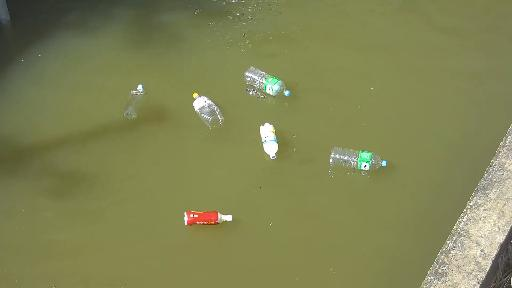plastic: (237, 61, 297, 106), (325, 146, 397, 180), (181, 85, 233, 131), (169, 196, 243, 228), (119, 80, 161, 129), (251, 123, 283, 157)
